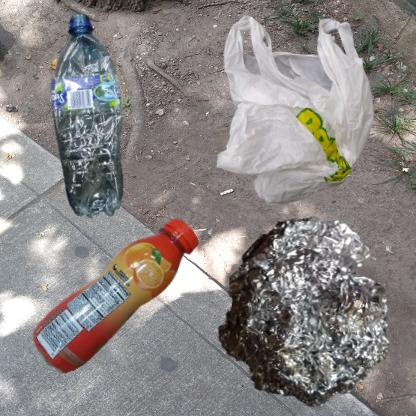aluminio: (213, 213, 392, 412)
bolsa: (213, 10, 383, 216)
botella: (10, 213, 281, 416), (10, 10, 201, 265)
